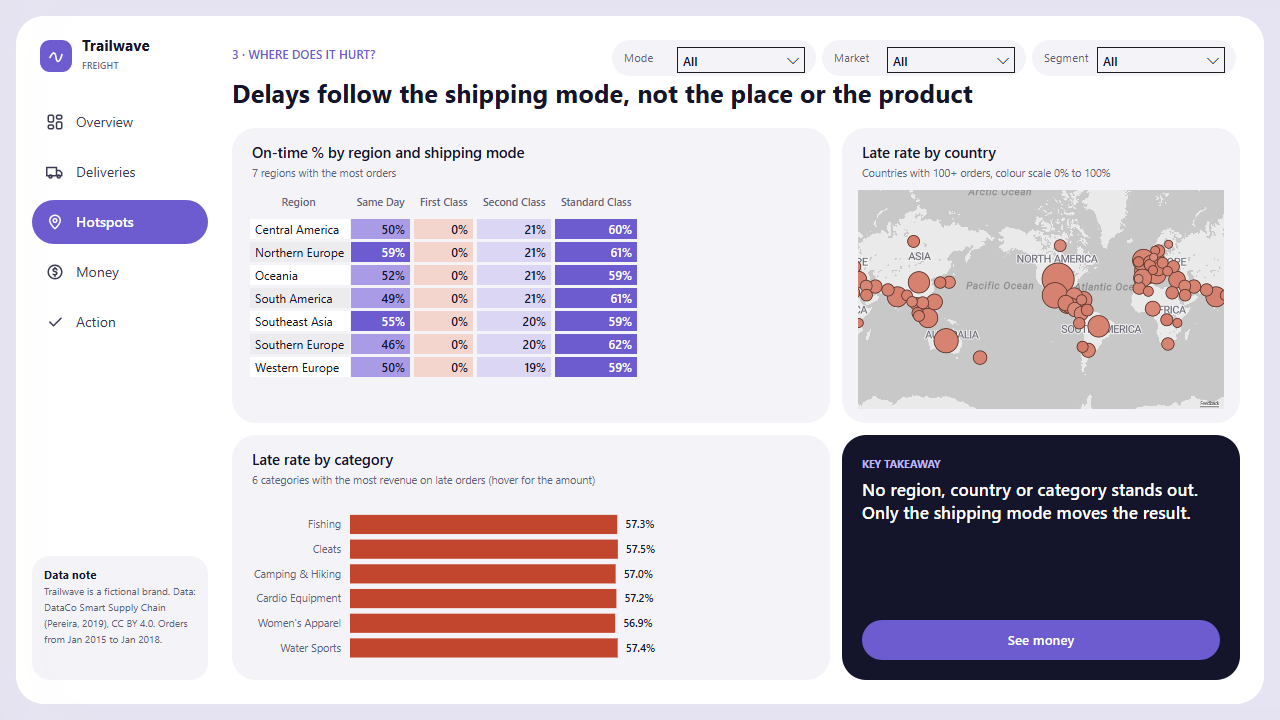

The dashboard page shown, as its layout file describes it:
{"tool":"powerbi","page":{"name":"Hotspots","canvas":[1280,720],"ordinal":2},"visuals":[{"type":"textbox","box":[82,34,130,28],"z":1100},{"type":"textbox","box":[82,56,130,20],"z":1200},{"type":"textbox","box":[76,112,120,20],"z":1300},{"type":"textbox","box":[76,162,120,20],"z":1400},{"type":"textbox","box":[76,212,120,20],"z":1500},{"type":"textbox","box":[76,262,120,20],"z":1600},{"type":"textbox","box":[76,312,120,20],"z":1700},{"type":"textbox","box":[44,566,152,108],"z":1800},{"type":"textbox","box":[232,46,370,18],"z":1900},{"type":"textbox","box":[232,76,1008,36],"z":2000},{"type":"textbox","box":[624,49,52,18],"z":2100},{"type":"slicer","fields":{"Values":["dim_shipping_mode.shipping_mode"]},"box":[672,42,138,32],"z":2200},{"type":"textbox","box":[834,49,52,18],"z":2300},{"type":"slicer","fields":{"Values":["dim_geography.market"]},"box":[882,42,138,32],"z":2400},{"type":"textbox","box":[1044,49,52,18],"z":2500},{"type":"slicer","fields":{"Values":["dim_customer.customer_segment"]},"box":[1092,42,138,32],"z":2600},{"type":"textbox","box":[252,142,558,22],"z":2700},{"type":"textbox","box":[252,164,558,18],"z":2800},{"type":"pivotTable","fields":{"Rows":["dim_geography.region"],"Columns":["dim_shipping_mode.shipping_mode"],"Values":["_Measures.On-Time % (Top 7 Regions)"]},"box":[246,188,570,225],"z":2900},{"type":"textbox","box":[862,142,358,22],"z":3000},{"type":"textbox","box":[862,164,358,18],"z":3100},{"type":"azureMap","fields":{"Category":["dim_geography.country"],"Size":["_Measures.Orders (100+)"]},"box":[854,186,374,227],"z":3200},{"type":"textbox","box":[252,449,558,22],"z":3300},{"type":"textbox","box":[252,471,558,18],"z":3400},{"type":"clusteredBarChart","fields":{"Category":["dim_product.category_name"],"Y":["_Measures.Late Rate % (Top 6 Exposure)"]},"box":[242,493,578,179],"z":3500},{"type":"textbox","box":[862,455,358,18],"z":3600},{"type":"textbox","box":[862,477,358,135],"z":3700},{"type":"textbox","box":[862,631,358,20],"z":3800},{"type":"actionButton","box":[862,620,358,40],"z":3900},{"type":"actionButton","box":[32,100,176,44],"z":4000},{"type":"actionButton","box":[32,150,176,44],"z":4100},{"type":"actionButton","box":[32,200,176,44],"z":4200},{"type":"actionButton","box":[32,250,176,44],"z":4300},{"type":"actionButton","box":[32,300,176,44],"z":4400}]}

Visuals, with their boxes in screenshot pixels (x1, y1, x2, y2), scaled from the page's 1280x720 canvas onto the 1280x720 screenshot:
textbox: box(82, 34, 212, 62)
textbox: box(82, 56, 212, 76)
textbox: box(76, 112, 196, 132)
textbox: box(76, 162, 196, 182)
textbox: box(76, 212, 196, 232)
textbox: box(76, 262, 196, 282)
textbox: box(76, 312, 196, 332)
textbox: box(44, 566, 196, 674)
textbox: box(232, 46, 602, 64)
textbox: box(232, 76, 1240, 112)
textbox: box(624, 49, 676, 67)
slicer - dim_shipping_mode.shipping_mode: box(672, 42, 810, 74)
textbox: box(834, 49, 886, 67)
slicer - dim_geography.market: box(882, 42, 1020, 74)
textbox: box(1044, 49, 1096, 67)
slicer - dim_customer.customer_segment: box(1092, 42, 1230, 74)
textbox: box(252, 142, 810, 164)
textbox: box(252, 164, 810, 182)
pivotTable - dim_geography.region x dim_shipping_mode.shipping_mode: box(246, 188, 816, 413)
textbox: box(862, 142, 1220, 164)
textbox: box(862, 164, 1220, 182)
azureMap - dim_geography.country x _Measures.Orders (100+): box(854, 186, 1228, 413)
textbox: box(252, 449, 810, 471)
textbox: box(252, 471, 810, 489)
clusteredBarChart - dim_product.category_name x _Measures.Late Rate % (Top 6 Exposure): box(242, 493, 820, 672)
textbox: box(862, 455, 1220, 473)
textbox: box(862, 477, 1220, 612)
textbox: box(862, 631, 1220, 651)
actionButton: box(862, 620, 1220, 660)
actionButton: box(32, 100, 208, 144)
actionButton: box(32, 150, 208, 194)
actionButton: box(32, 200, 208, 244)
actionButton: box(32, 250, 208, 294)
actionButton: box(32, 300, 208, 344)
